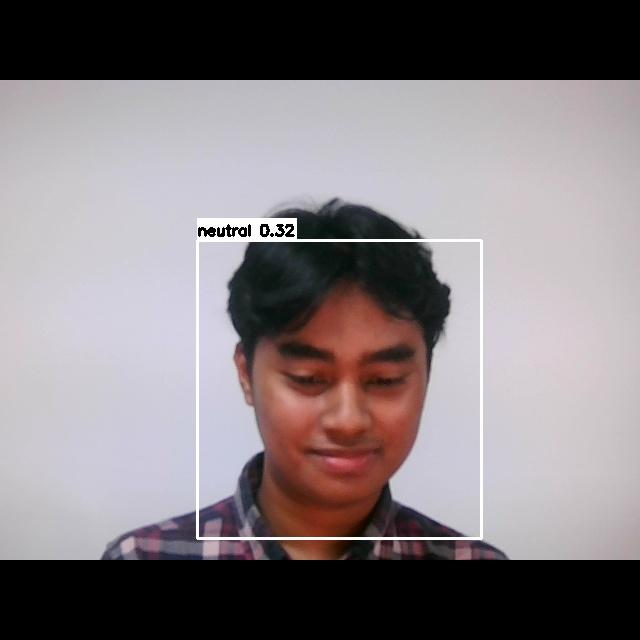Happy: (241, 321, 424, 486)
